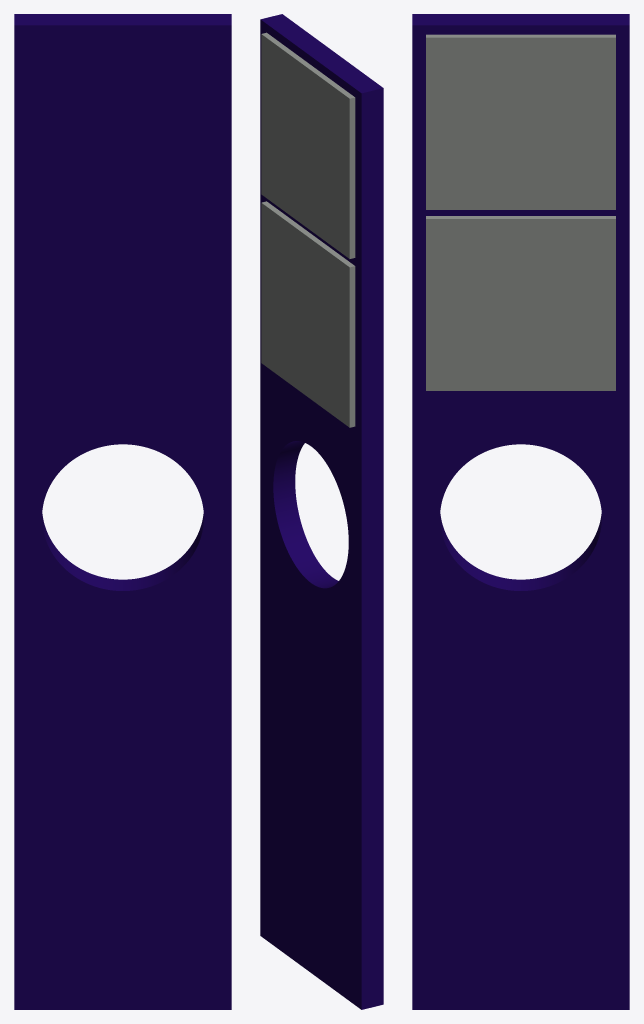
The model's file is pilarv10.glb.
3 views of the same model, side by side, from view 1: azimuth 90°, elevation 25°; view 2: azimuth 210°, elevation 25°; view 3: azimuth 270°, elevation 25° (orthographic). The views are drawn at different scales.
Visible parts, largest first — view 1: Cube; view 2: Cube, Cube.001, Cube.002; view 3: Cube, Cube.002, Cube.001.
Boxes of the visible parts, <box> form: Cube: <box>14,14,231,1009</box>; Cube: <box>260,14,383,1009</box>; Cube.001: <box>261,201,355,427</box>; Cube.002: <box>261,32,355,258</box>; Cube: <box>412,14,629,1009</box>; Cube.002: <box>426,34,615,209</box>; Cube.001: <box>426,216,615,390</box>.
Size of the model in its own units: 2.5 by 80 by 16.
